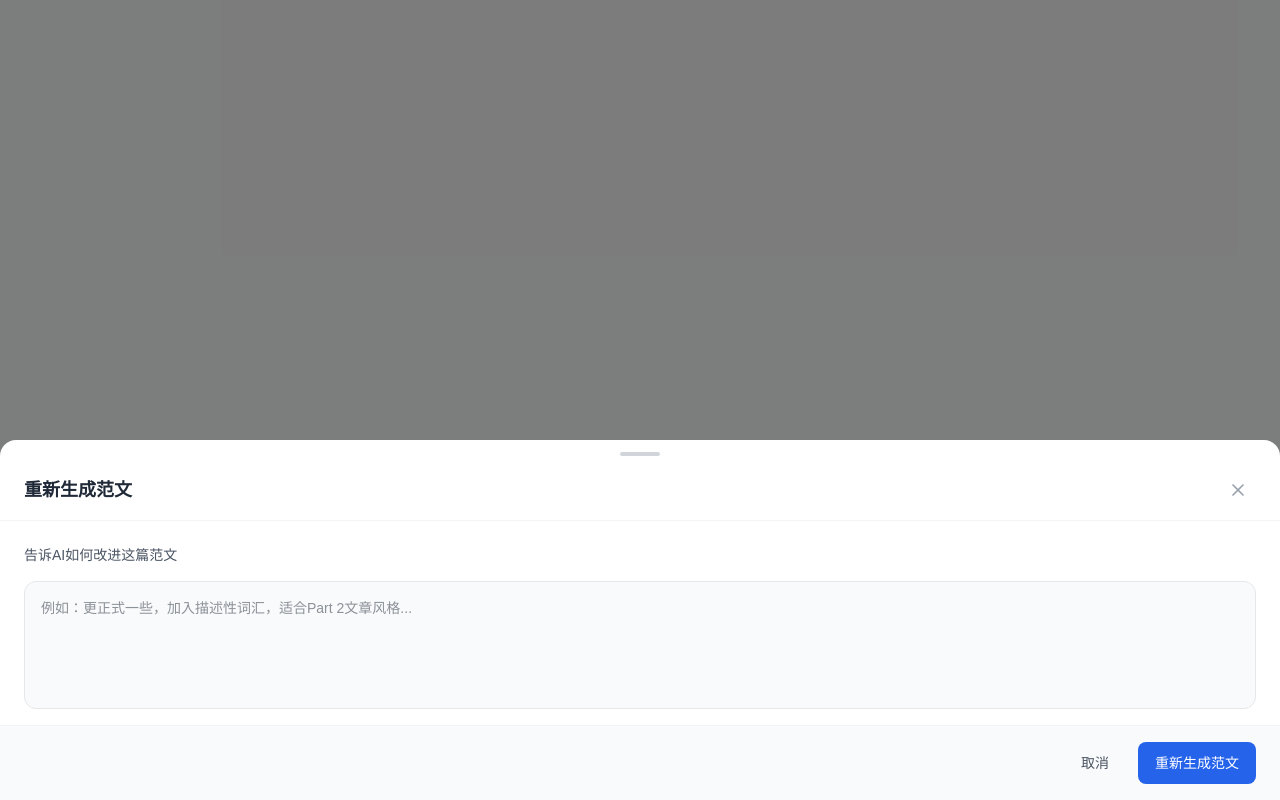
it: RegenerateModal › UT-004: 加载状态禁用按钮 › should disable button when loading
Click the button with test id "regenerate-button".
click(1197, 763)  # box 1138,742 -> 1256,784
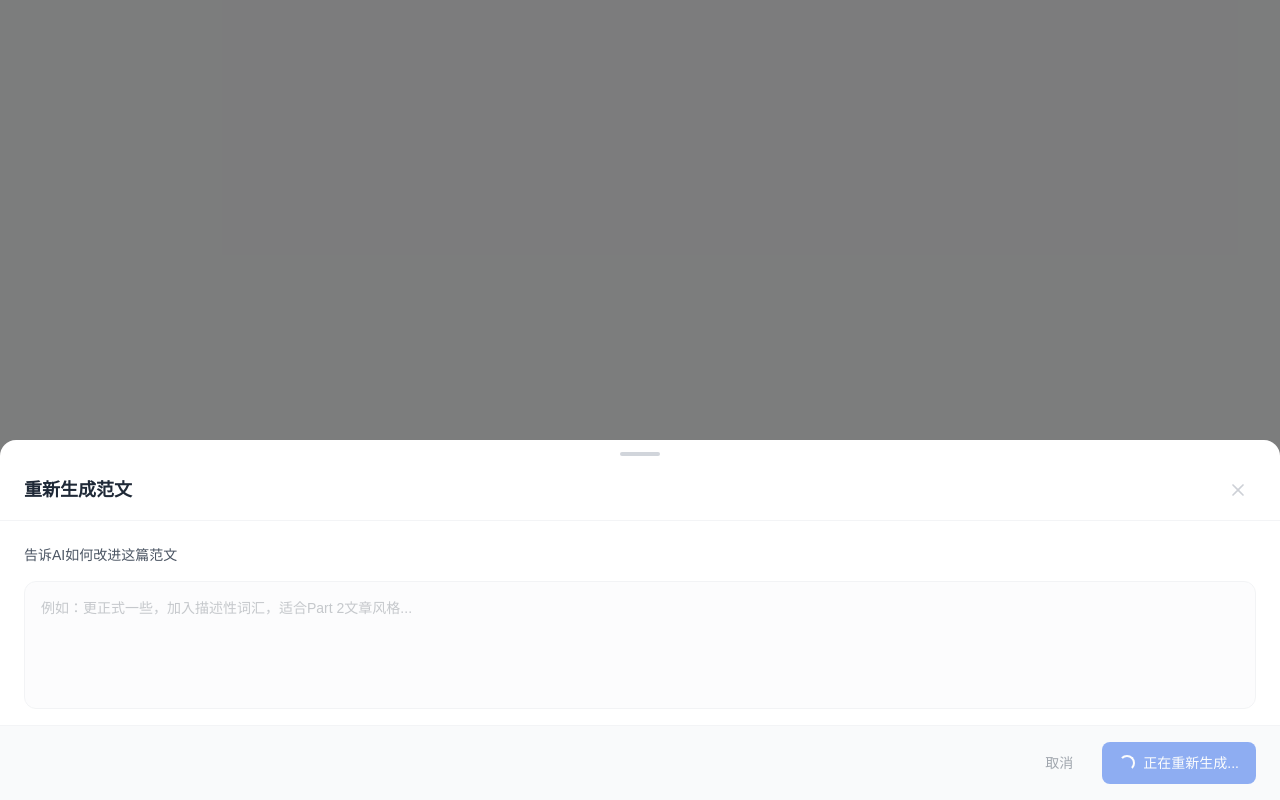
Expected: the button with test id "regenerate-button" is disabled, 1102,742 -> 1256,784
